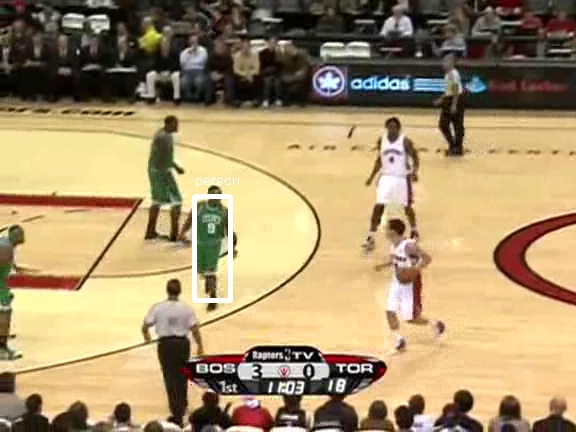person: (192, 199, 226, 280), (191, 199, 225, 280), (193, 199, 227, 280), (192, 198, 226, 279), (192, 200, 226, 281)
target_negative: (8, 66, 554, 244), (341, 185, 511, 260), (485, 222, 540, 393), (334, 252, 374, 420), (269, 142, 385, 176), (377, 86, 390, 243)
